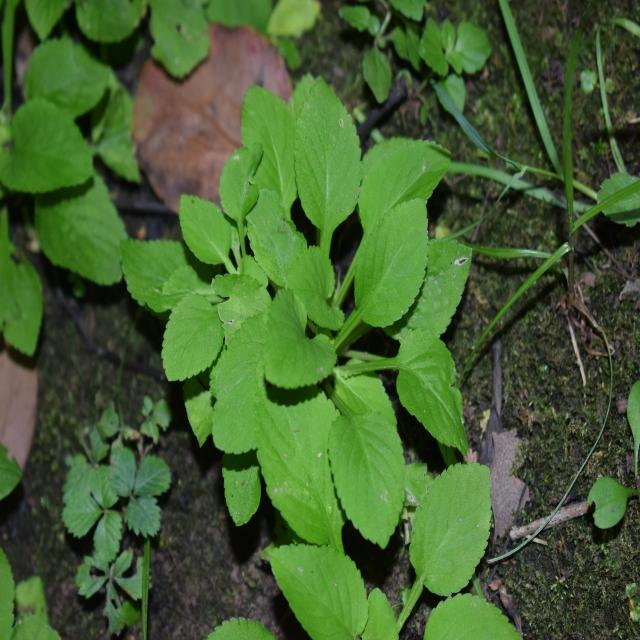Viola: (167, 93, 462, 521)
